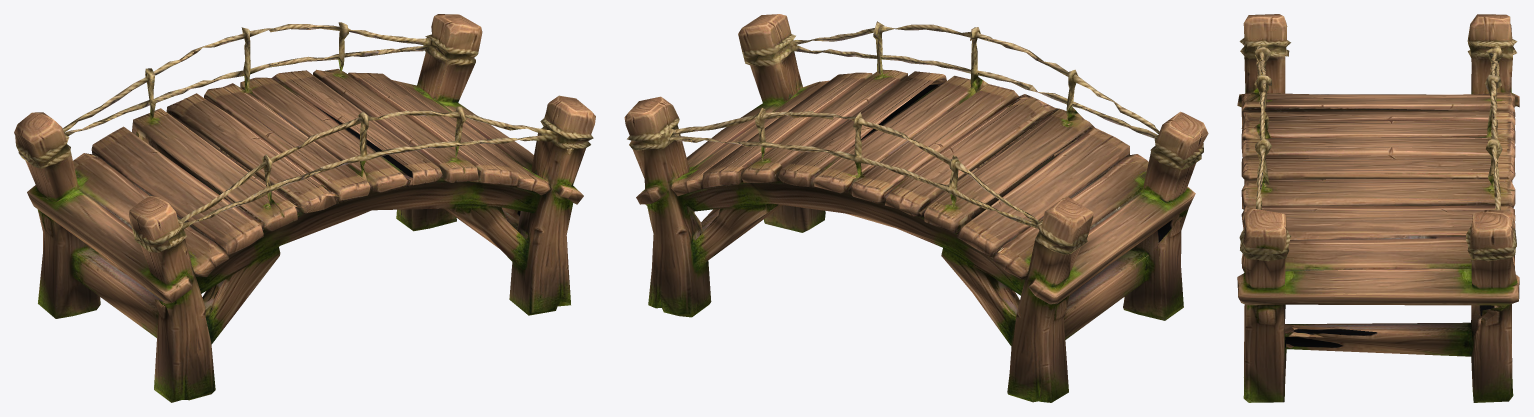
Rendered from wood_bridge.glb.
The picture shows the model from 3 angles, left to right: view 1: azimuth 30°, elevation 25°; view 2: azimuth 150°, elevation 25°; view 3: azimuth 270°, elevation 25°; orthographic projection. The views are drawn at different scales.
Parts seen in each view (by area): view 1: Mesh1.0; view 2: Mesh1.0; view 3: Mesh1.0.
Boxes of the visible parts, x1,y1,x2,y2 form: Mesh1.0: (14,14,595,402); Mesh1.0: (624,14,1208,402); Mesh1.0: (1237,14,1519,402).
Size of the model in its own units: 1.89 by 0.9416 by 1.04.
Materials: 1 (1 with a texture image).
